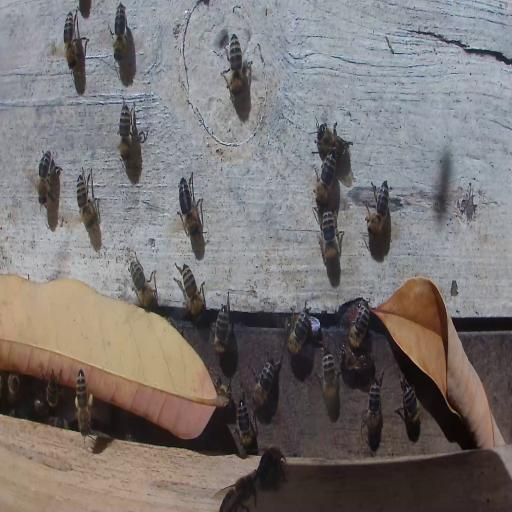bee: (310, 120, 351, 170), (176, 261, 206, 320), (177, 172, 203, 240), (128, 255, 159, 310), (318, 208, 342, 276), (76, 170, 100, 236), (74, 366, 94, 442), (362, 379, 386, 440), (254, 445, 288, 488), (365, 179, 391, 235), (399, 376, 424, 432), (218, 473, 254, 511), (321, 348, 341, 416), (250, 358, 275, 412), (235, 393, 256, 457), (285, 305, 311, 355), (313, 152, 337, 204), (212, 300, 232, 362), (340, 347, 376, 380), (225, 32, 243, 97), (115, 100, 134, 159), (346, 302, 370, 348), (36, 148, 54, 206), (62, 10, 78, 72), (112, 2, 128, 64), (6, 370, 20, 410), (46, 374, 59, 408), (33, 397, 49, 419)
